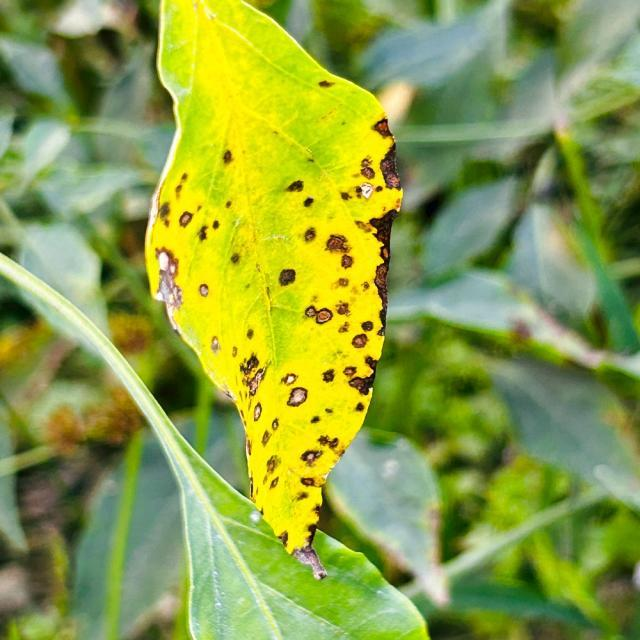Bercak Daun Serkospora: (142, 0, 403, 581)
